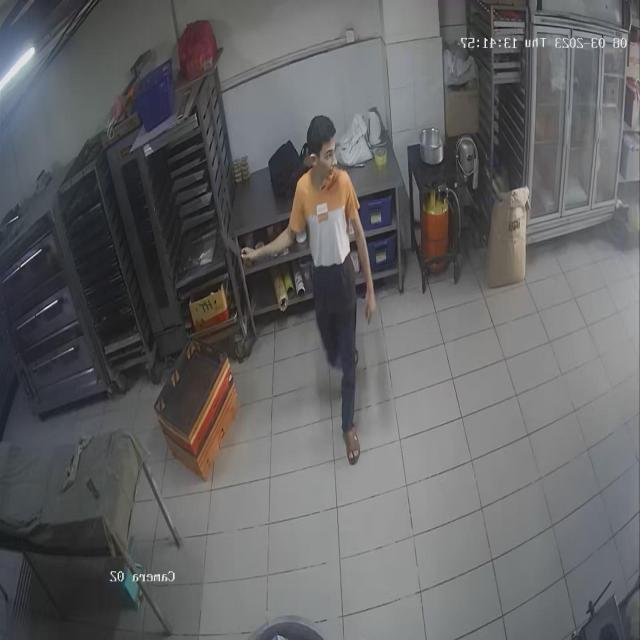Knife: (206, 219, 262, 273)
